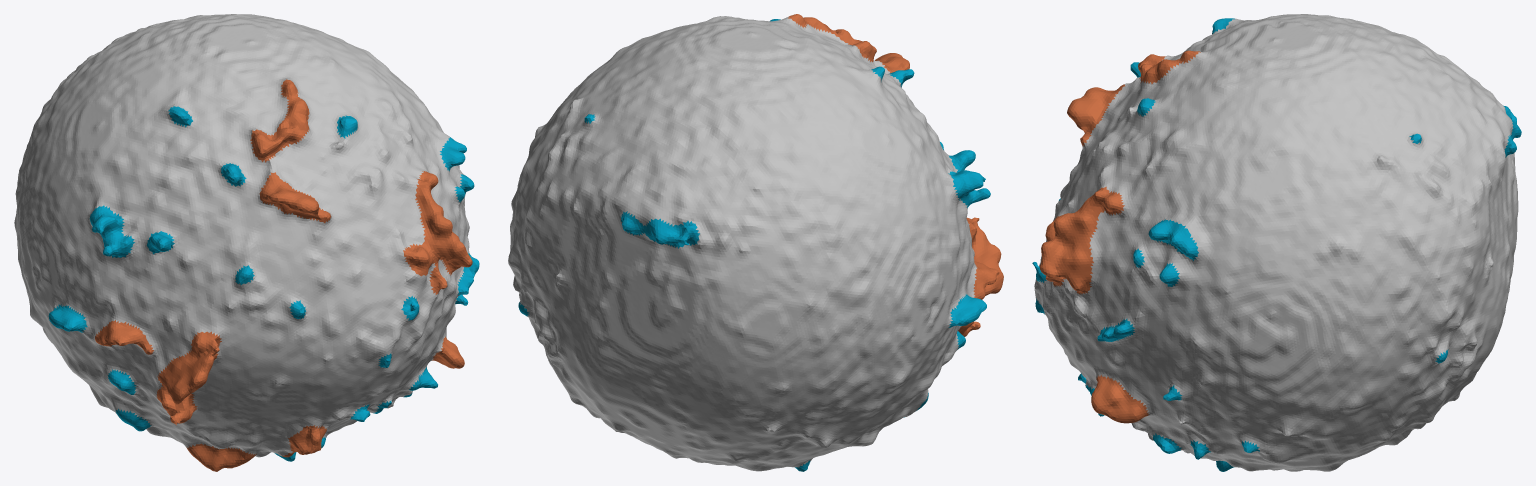
3 views of the same model, side by side, from view 1: azimuth 30°, elevation 25°; view 2: azimuth 150°, elevation 25°; view 3: azimuth 270°, elevation 25° (orthographic). The views are drawn at different scales.
Bounding box in the file's own units: 130 × 125 × 131.
